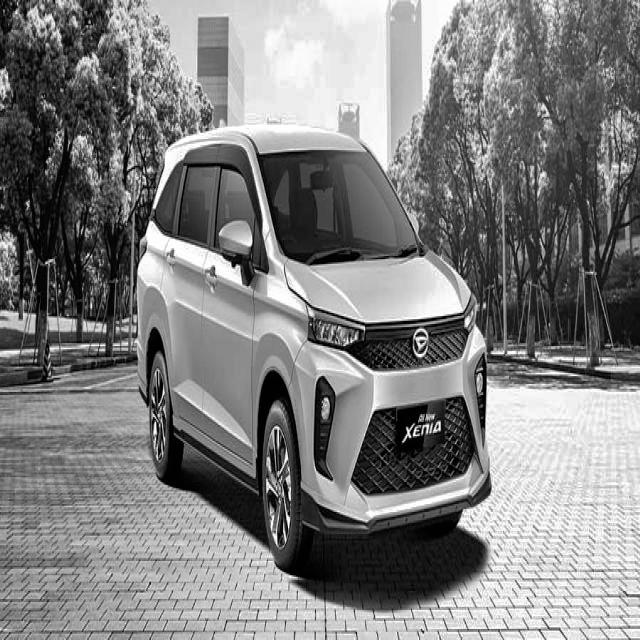Car: (131, 114, 502, 602)
